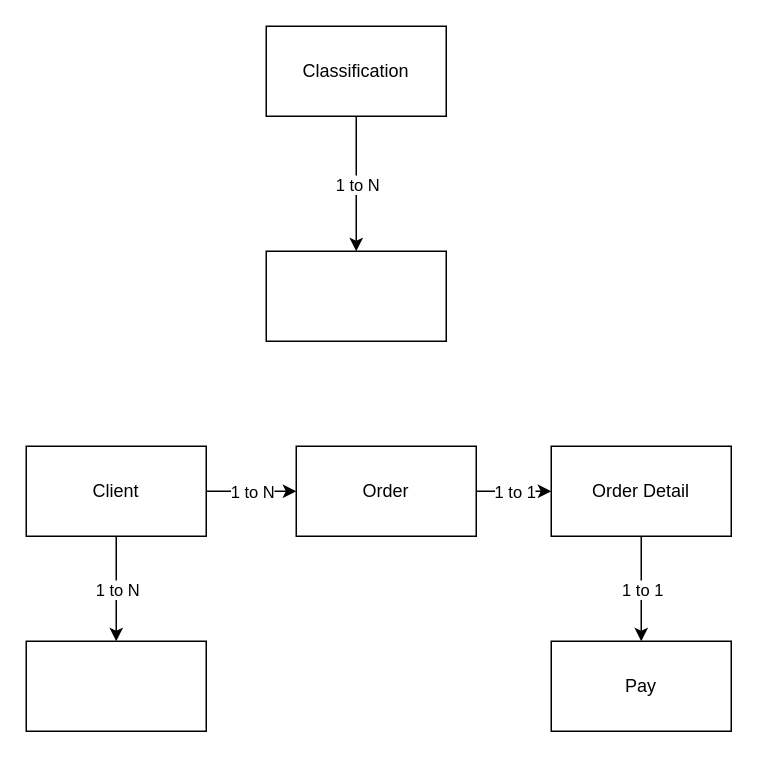
Some shapes in this 758 by 758 pixel diagram are drawn without their labels. The centre of each missing label's shape, as x and y in pixels:
"Production" belongs at pixel 355 295.
"Shipping Address" belongs at pixel 115 685.
